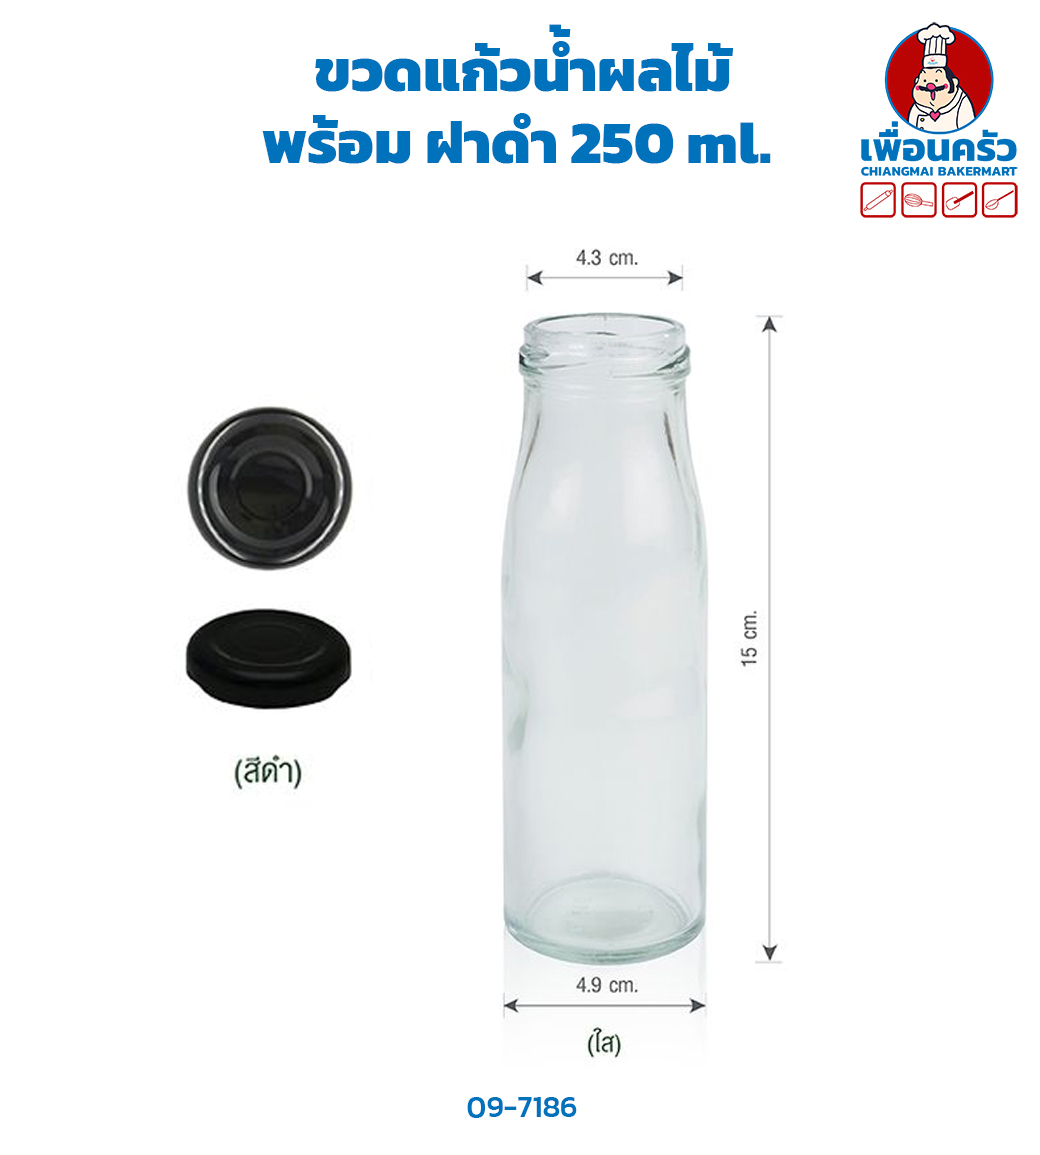glass_bottle: (490, 300, 718, 972)
